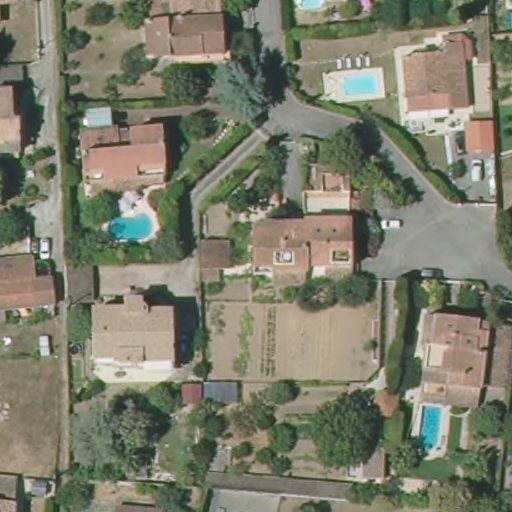pool: (102, 211, 163, 247), (410, 401, 449, 454), (329, 67, 384, 104), (295, 1, 328, 9)
